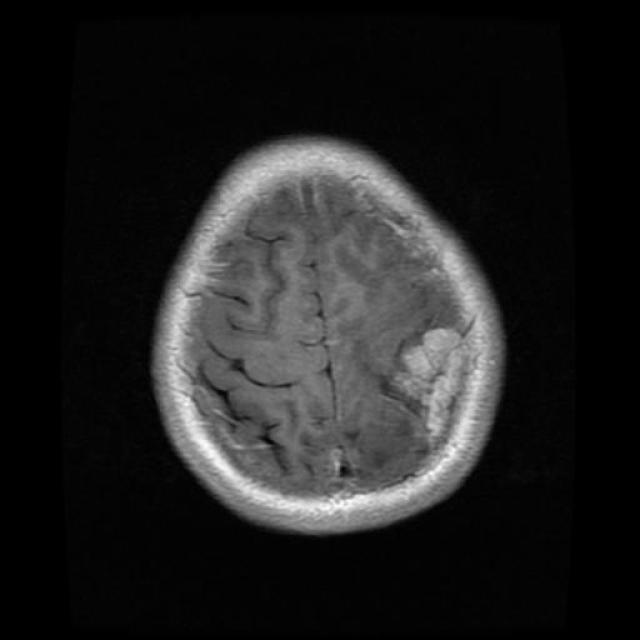meningioma: (394, 329, 468, 436)
